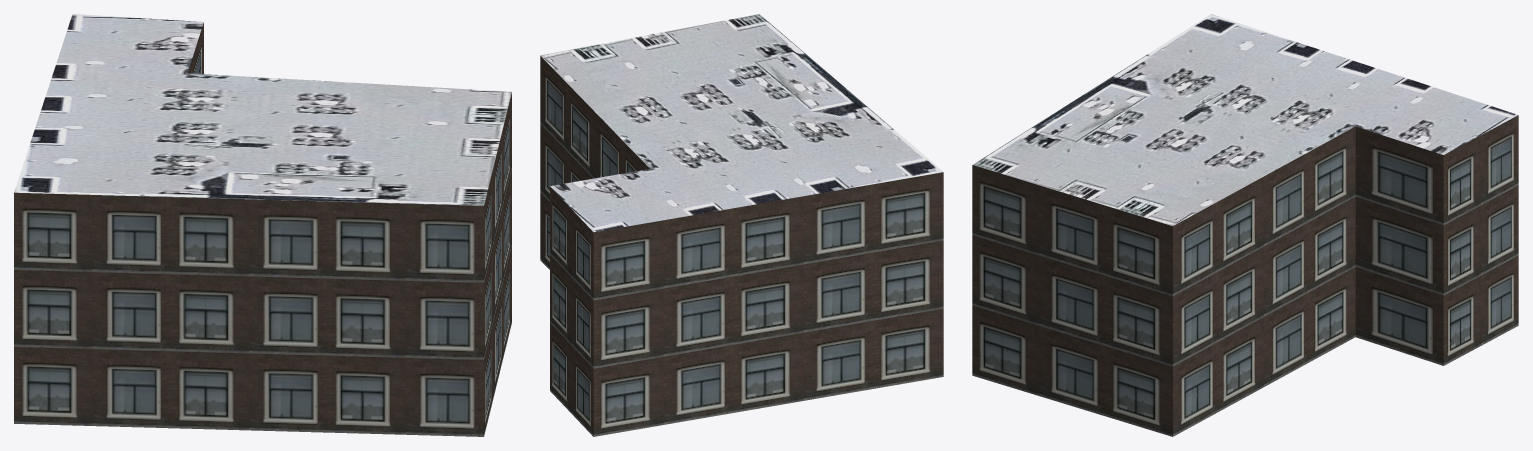
File: ResTex__4309.fbx
3 renders of one model, left to right at view 1: azimuth 30°, elevation 25°; view 2: azimuth 150°, elevation 25°; view 3: azimuth 270°, elevation 25°, orthographic. The views are drawn at different scales.
Parts seen in each view (by area): view 1: CityEngineMaterial_16_m, CityEngineMaterial_15_m; view 2: CityEngineMaterial_16_m, CityEngineMaterial_15_m; view 3: CityEngineMaterial_16_m, CityEngineMaterial_15_m.
Part boxes in pixels (bbox=[...]): CityEngineMaterial_16_m: bbox=[14, 22, 511, 436]; CityEngineMaterial_15_m: bbox=[14, 14, 511, 205]; CityEngineMaterial_16_m: bbox=[540, 56, 943, 436]; CityEngineMaterial_15_m: bbox=[540, 14, 943, 232]; CityEngineMaterial_16_m: bbox=[972, 115, 1518, 436]; CityEngineMaterial_15_m: bbox=[973, 14, 1517, 225].
Size of the model in its own units: 19.43 by 9 by 21.13.
Materials: 2 (2 with a texture image).
